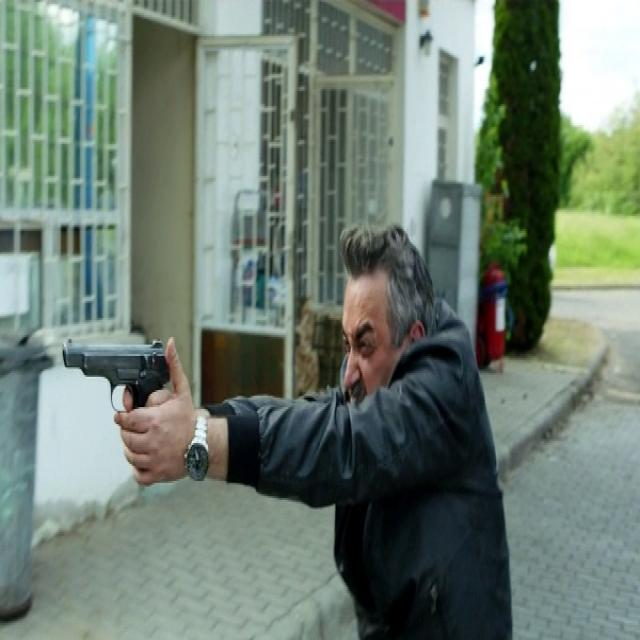weapons: (58, 310, 180, 478)
